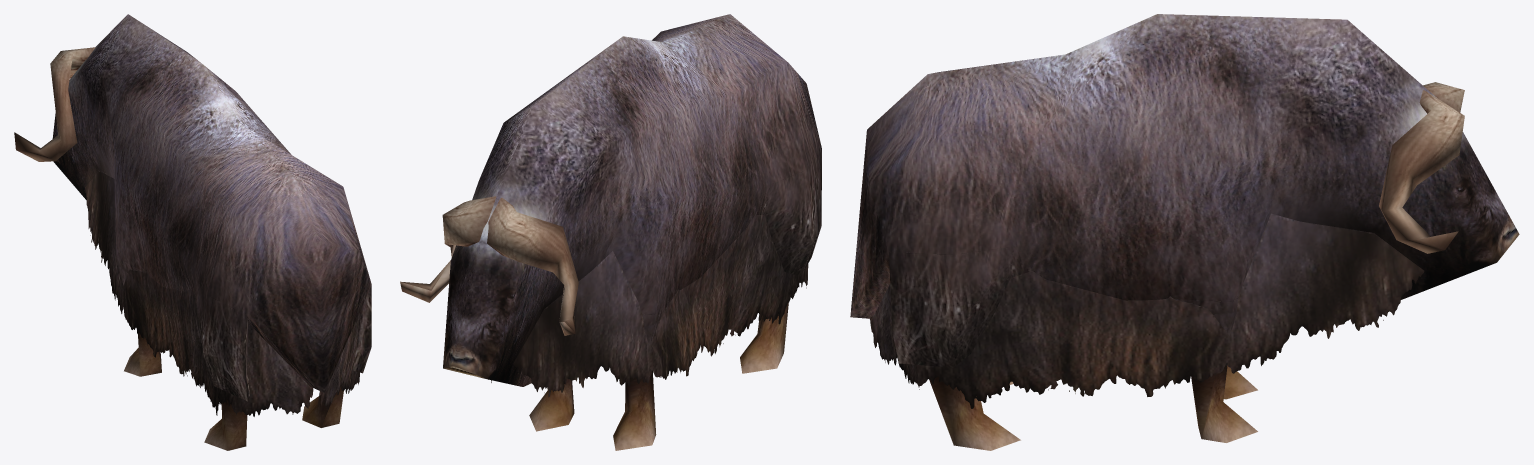
Rendered from fauna_muskox.glb.
3 views of the same model, side by side, from view 1: azimuth 30°, elevation 25°; view 2: azimuth 150°, elevation 25°; view 3: azimuth 270°, elevation 25° (orthographic). The views are drawn at different scales.
Visible parts, largest first — view 1: fauna_muskox_part0; view 2: fauna_muskox_part0; view 3: fauna_muskox_part0.
Part boxes in pixels (<box>): fauna_muskox_part0: <box>14,14,371,450</box>; fauna_muskox_part0: <box>400,14,821,450</box>; fauna_muskox_part0: <box>850,14,1519,450</box>.
Size of the model in its own units: 0.7507 by 1.4 by 2.14.
Materials: 1 (1 with a texture image).
